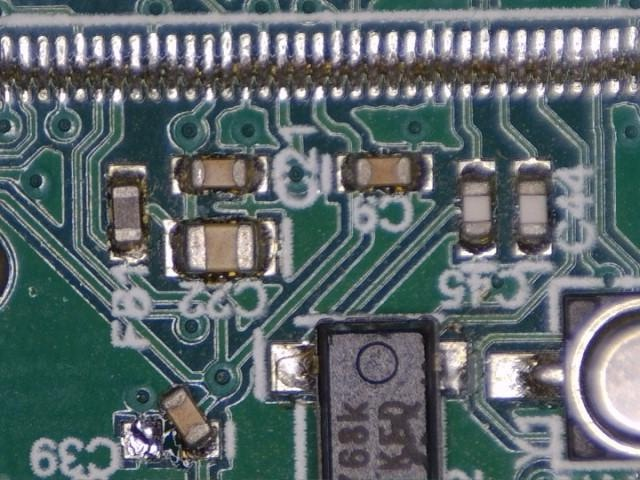pcb_defect: (121, 384, 221, 460)
